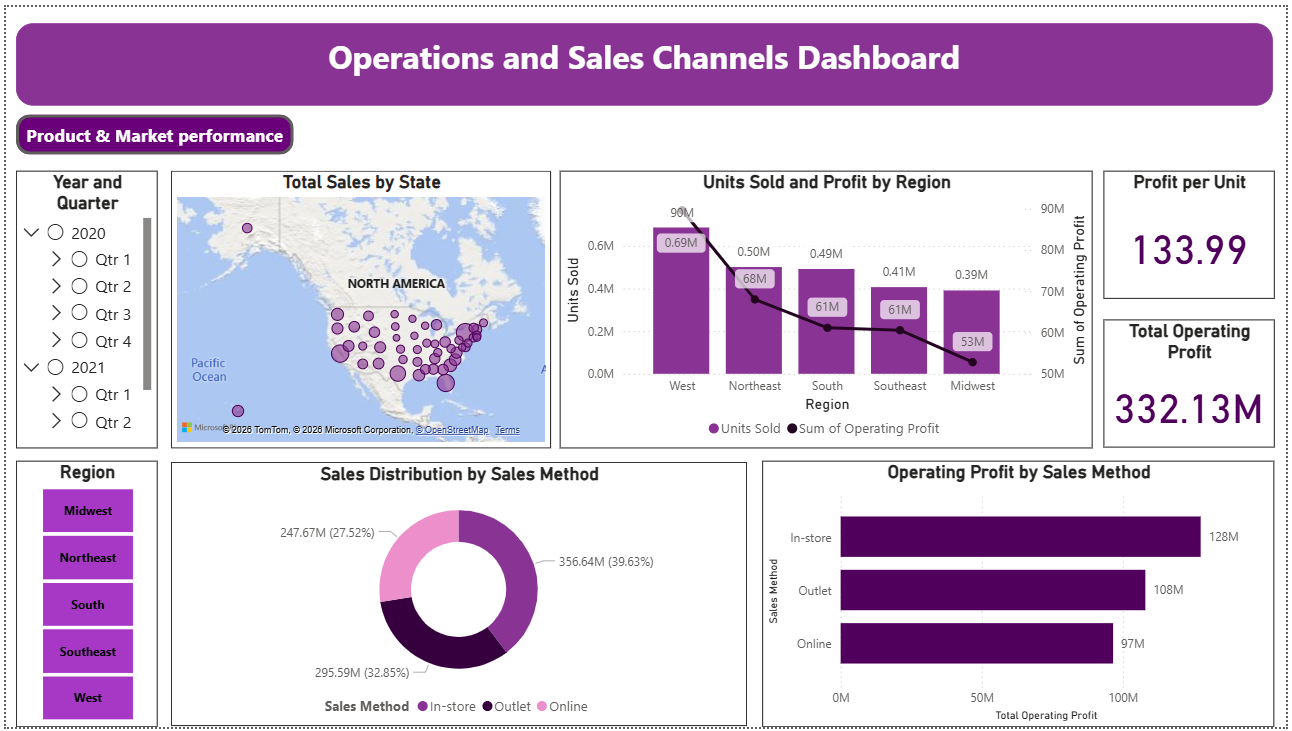

Layout of this report page (visuals, bound fields, positions):
{"tool":"powerbi","page":{"name":"Operations & Sales Channels","canvas":[1280,720],"ordinal":2},"visuals":[{"type":"textbox","box":[10.1,16.8,1256.5,82.3],"z":0},{"type":"donutChart","title":"Sales Distribution by Sales Method","fields":{"Y":["Sum(Data Sales Adidas.Total Sales)"],"Category":["Data Sales Adidas.Sales Method"]},"box":[165.1,454.9,576,264.1],"z":1000},{"type":"clusteredBarChart","title":"Operating Profit by Sales Method","fields":{"Category":["Data Sales Adidas.Sales Method"],"Y":["Data Sales Adidas.Total Operating Profit"]},"box":[755.7,453.7,512.4,266.6],"z":2000},{"type":"lineClusteredColumnComboChart","title":"Units Sold and  Profit by Region","fields":{"Category":["Data Sales Adidas.Region"],"Y":["Data Sales Adidas.Total Units Sold"],"Y2":["Sum(Data Sales Adidas.Operating Profit)"]},"box":[553.9,163.9,533.2,277.6],"z":3000},{"type":"listSlicer","fields":{"Values":["Data Sales Adidas.Date.Variation.Date Hierarchy.Year","Data Sales Adidas.Date.Variation.Date Hierarchy.Quarter","Data Sales Adidas.Date.Variation.Date Hierarchy.Month","Data Sales Adidas.Date.Variation.Date Hierarchy.Day"]},"box":[9.8,163.9,141.8,277.6],"z":4000},{"type":"slicer","title":"Region","fields":{"Values":["Data Sales Adidas.Region"]},"box":[9.8,453.7,141.8,266.6],"z":5000},{"type":"card","title":"Profit per Unit","fields":{"Values":["Data Sales Adidas.Profit Per Unit"]},"box":[1096.9,163.9,171.2,128.4],"z":6000},{"type":"actionButton","box":[10,107.5,277.5,40],"z":7000},{"type":"map","title":"Total Sales by State","fields":{"Category":["Data Sales Adidas.State"],"Size":["Sum(Data Sales Adidas.Total Sales)"]},"box":[165.1,163.9,380.3,277.6],"z":8000},{"type":"card","title":"Total Operating Profit","fields":{"Values":["Data Sales Adidas.Total Operating Profit"]},"box":[1096.9,313,171.2,128.4],"z":9000}]}

Visuals, with their boxes in screenshot pixels (x1, y1, x2, y2), scaled from the page's 1280x720 canvas onto the 1292x731 screenshot:
textbox: 10/17/1278/101
"Sales Distribution by Sales Method" donutChart: 167/462/748/730
"Operating Profit by Sales Method" clusteredBarChart: 763/461/1280/730
"Units Sold and  Profit by Region" lineClusteredColumnComboChart: 559/166/1097/448
listSlicer - Data Sales Adidas.Date.Variation.Date Hierarchy.Year x Data Sales Adidas.Date.Variation.Date Hierarchy.Quarter: 10/166/153/448
"Region" slicer: 10/461/153/730
"Profit per Unit" card: 1107/166/1280/297
actionButton: 10/109/290/150
"Total Sales by State" map: 167/166/551/448
"Total Operating Profit" card: 1107/318/1280/448
